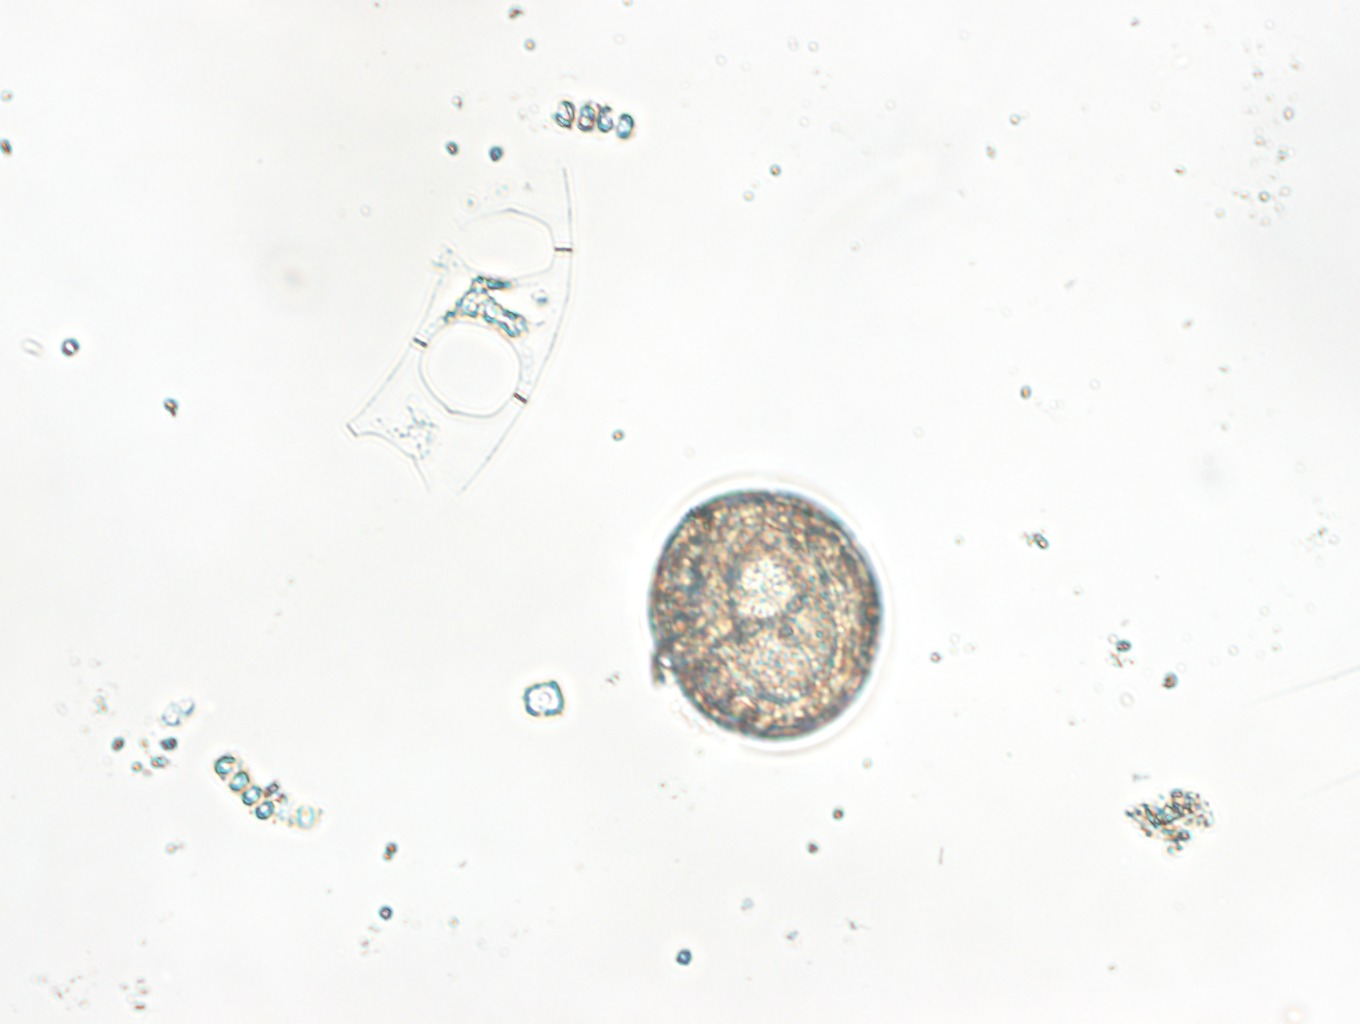eucampia: (347, 160, 573, 492)
skeletonema: (212, 750, 323, 830), (552, 94, 638, 142)
